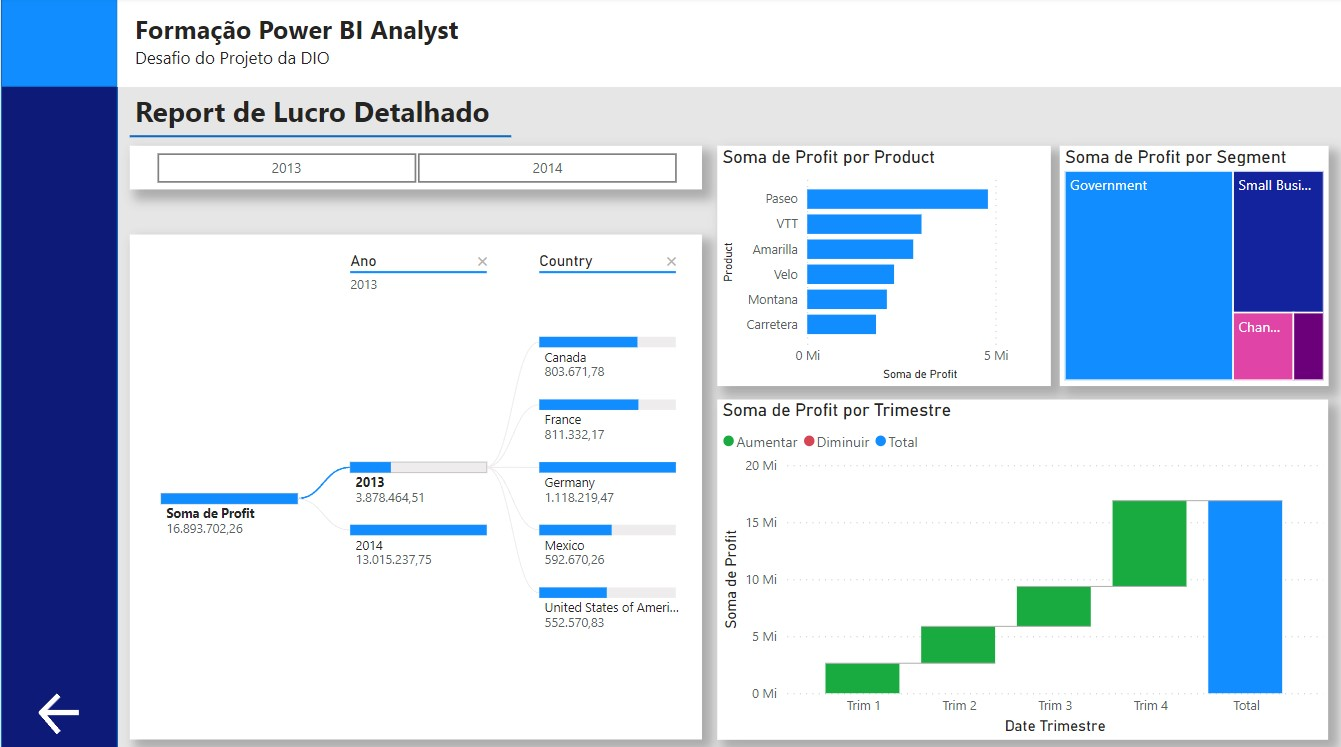

The dashboard page shown, as its layout file describes it:
{"tool":"powerbi","page":{"name":"Página 2","canvas":[1280,720],"ordinal":1},"visuals":[{"type":"shape","box":[0,0,111.1,719.8],"z":0},{"type":"shape","box":[0,0,111,85.6],"z":1},{"type":"shape","box":[111,0,1168.6,85.6],"z":2},{"type":"textbox","box":[123,9.6,326.8,67.5],"z":3},{"type":"textbox","box":[122.6,85.7,363,47.6],"z":4},{"type":"shape","box":[122.6,123.8,363,17.9],"z":5},{"type":"slicer","fields":{"Values":["financials.Date.Variation.Hierarquia de datas.Ano"]},"box":[122.6,141.6,545.1,41.7],"z":6},{"type":"decompositionTreeVisual","fields":{"Analyze":["Sum(financials.Profit)"],"ExplainBy":["financials.Date.Variation.Hierarquia de datas.Ano","financials.Country"]},"box":[122.6,226.1,545.1,480.8],"z":7},{"type":"barChart","fields":{"Category":["financials.Product"],"Y":["Sum(financials.Profit)"]},"box":[681.9,141.6,317.8,228.5],"z":8},{"type":"treemap","fields":{"Values":["Sum(financials.Profit)"],"Group":["financials.Segment"]},"box":[1008,141.6,255.9,228.5],"z":9},{"type":"waterfallChart","fields":{"Y":["Sum(financials.Profit)"],"Category":["financials.Date.Variation.Hierarquia de datas.Trimestre"]},"box":[681.9,383.2,582,323.7],"z":10},{"type":"actionButton","box":[14.3,658.1,83.3,48.8],"z":11}]}

Visuals, with their boxes on the page's 1280x720 design canvas (x1, y1, x2, y2). These are canvas units, not pixel positions in the 1341x747 screenshot, which may show the page scaled, cropped or inside an application window:
shape: {"left": 0, "top": 0, "right": 111, "bottom": 720}
shape: {"left": 0, "top": 0, "right": 111, "bottom": 86}
shape: {"left": 111, "top": 0, "right": 1280, "bottom": 86}
textbox: {"left": 123, "top": 10, "right": 450, "bottom": 77}
textbox: {"left": 123, "top": 86, "right": 486, "bottom": 133}
shape: {"left": 123, "top": 124, "right": 486, "bottom": 142}
slicer - financials.Date.Variation.Hierarquia de datas.Ano: {"left": 123, "top": 142, "right": 668, "bottom": 183}
decompositionTreeVisual - Sum(financials.Profit) x financials.Date.Variation.Hierarquia de datas.Ano: {"left": 123, "top": 226, "right": 668, "bottom": 707}
barChart - financials.Product x Sum(financials.Profit): {"left": 682, "top": 142, "right": 1000, "bottom": 370}
treemap - Sum(financials.Profit) x financials.Segment: {"left": 1008, "top": 142, "right": 1264, "bottom": 370}
waterfallChart - Sum(financials.Profit) x financials.Date.Variation.Hierarquia de datas.Trimestre: {"left": 682, "top": 383, "right": 1264, "bottom": 707}
actionButton: {"left": 14, "top": 658, "right": 98, "bottom": 707}
